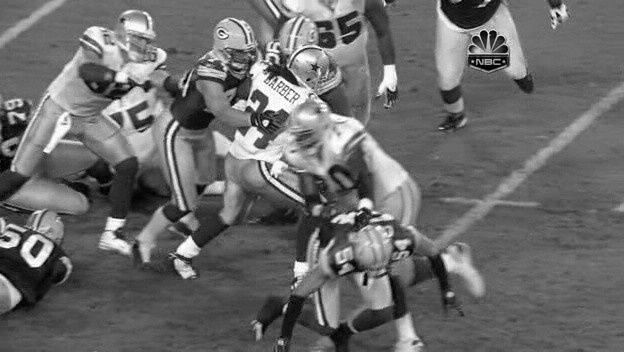person: (292, 48, 331, 93), (291, 48, 330, 93), (293, 48, 332, 93), (292, 47, 331, 92), (292, 49, 331, 94)
target_negative: (268, 258, 381, 321), (108, 191, 345, 216), (434, 159, 475, 268), (493, 258, 545, 299), (600, 181, 605, 295), (515, 326, 575, 330)
